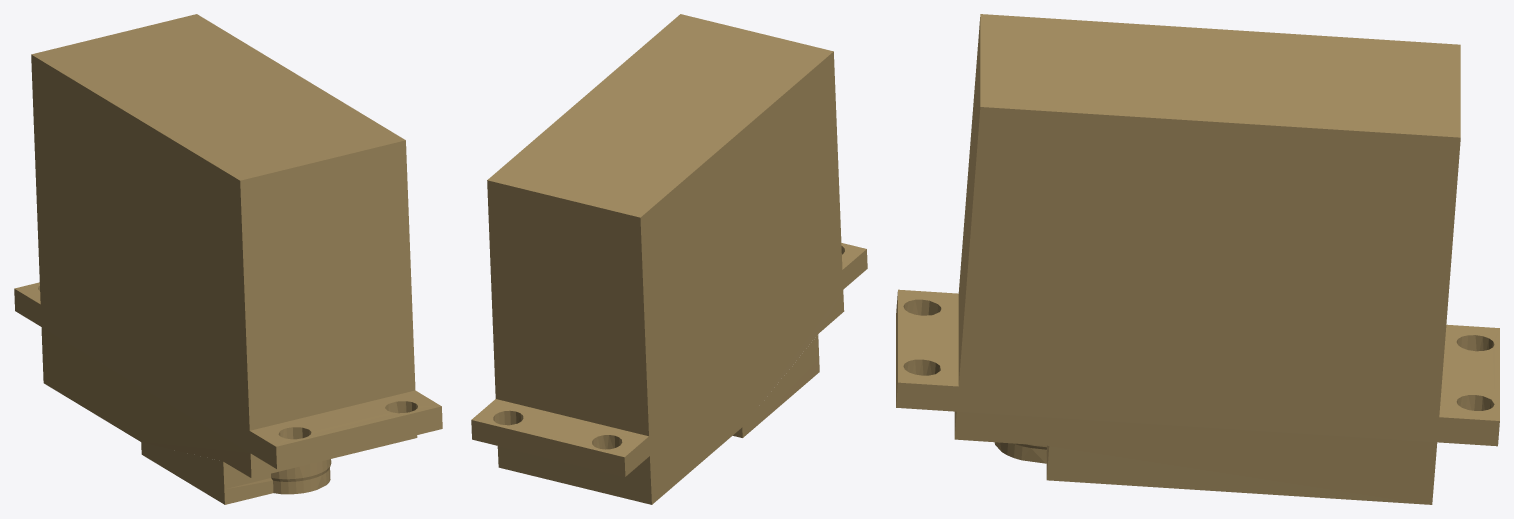
The model's file is left_shoulder_y_link_visual_1.obj.light.glb.
The picture shows the model from 3 angles, left to right: view 1: azimuth 30°, elevation 25°; view 2: azimuth 150°, elevation 25°; view 3: azimuth 270°, elevation 25°; orthographic projection. The views are drawn at different scales.
Size of the model in its own units: 0.2829 by 0.5644 by 0.7761.
